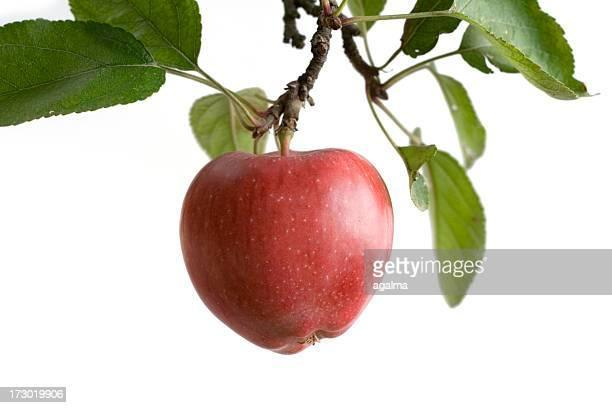apple: (177, 143, 393, 355)
